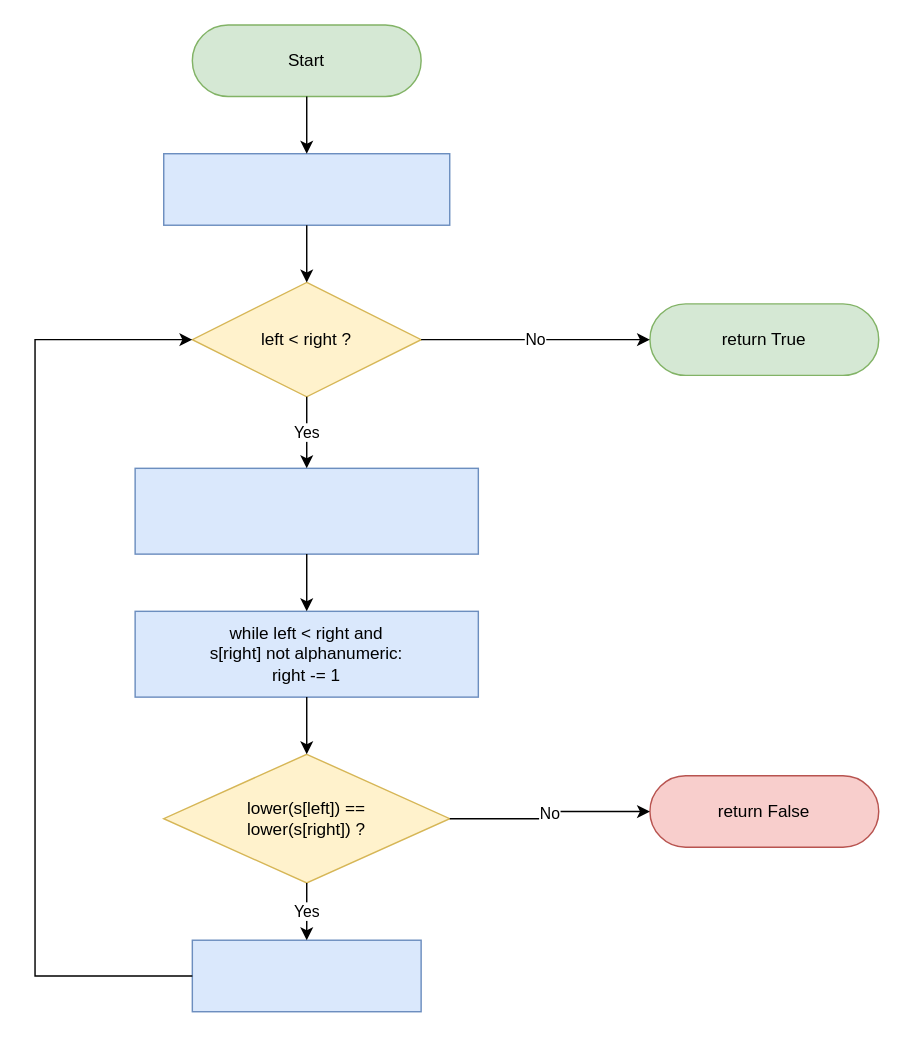
The diagram is 904 pixels wide and 1037 high, and some of its shapes have lost their labels. Each missing label, with the box of its shape:
left += 1 right -= 1: (191, 939, 421, 1012)
left = 0 right = len(s) - 1: (162, 152, 450, 225)
while left < right and s[left] not alphanumeric: left += 1: (134, 467, 478, 554)
